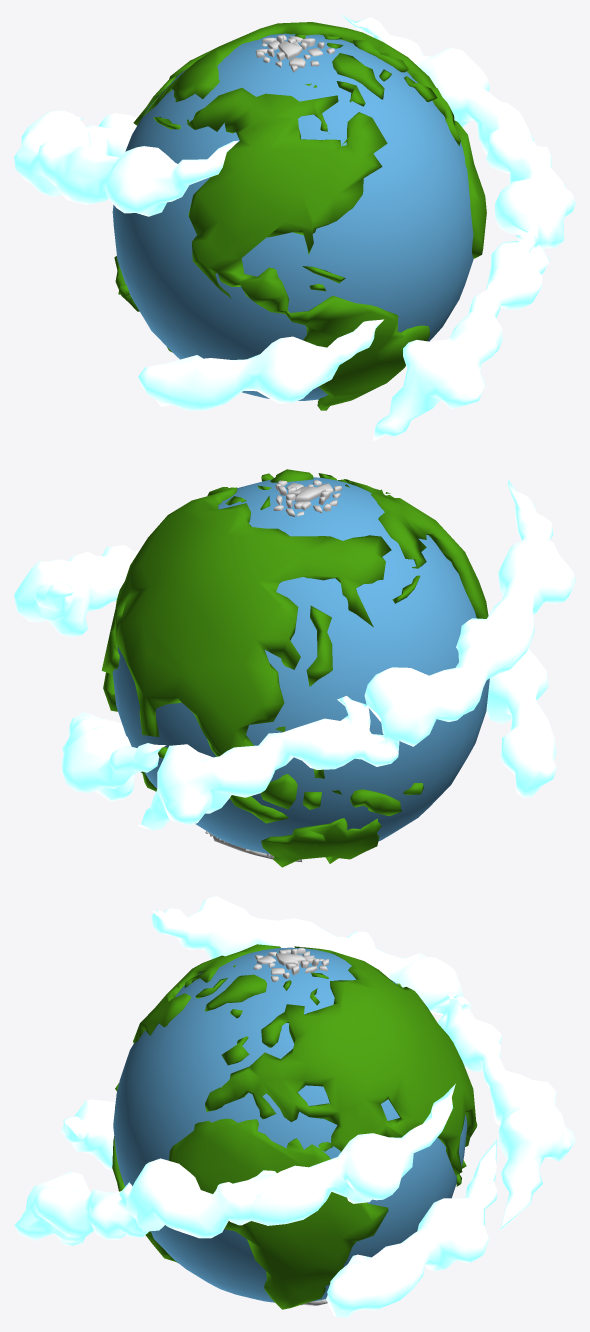
Rendered from Sketchfab_2022_07_13_03_57_21.glb.
The picture shows the model from 3 angles, top to bottom: view 1: azimuth 30°, elevation 25°; view 2: azimuth 150°, elevation 25°; view 3: azimuth 270°, elevation 25°; orthographic projection. The views are drawn at different scales.
Parts seen in each view (by area): view 1: Mball.1079, Sphere.001, Plane; view 2: Mball.1079, Sphere.001, Plane; view 3: Mball.1079, Sphere.001, Plane.
Part boxes in pixels (x1,y1,x2,y2): Mball.1079: (14,15,575,440); Sphere.001: (112,33,473,400); Plane: (255,34,334,72); Mball.1079: (14,469,575,867); Sphere.001: (112,477,489,854); Plane: (205,479,341,858); Mball.1079: (14,896,575,1317); Sphere.001: (113,947,467,1302); Plane: (253,947,328,1305).
Size of the model in its own units: 28.36 by 20.5 by 31.32.
